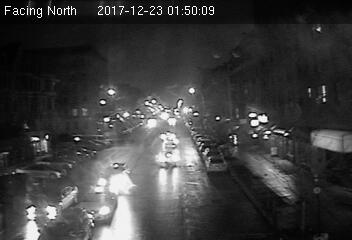car: (25, 183, 78, 221), (70, 189, 118, 225), (97, 162, 131, 191), (156, 148, 182, 168), (205, 156, 227, 173)
